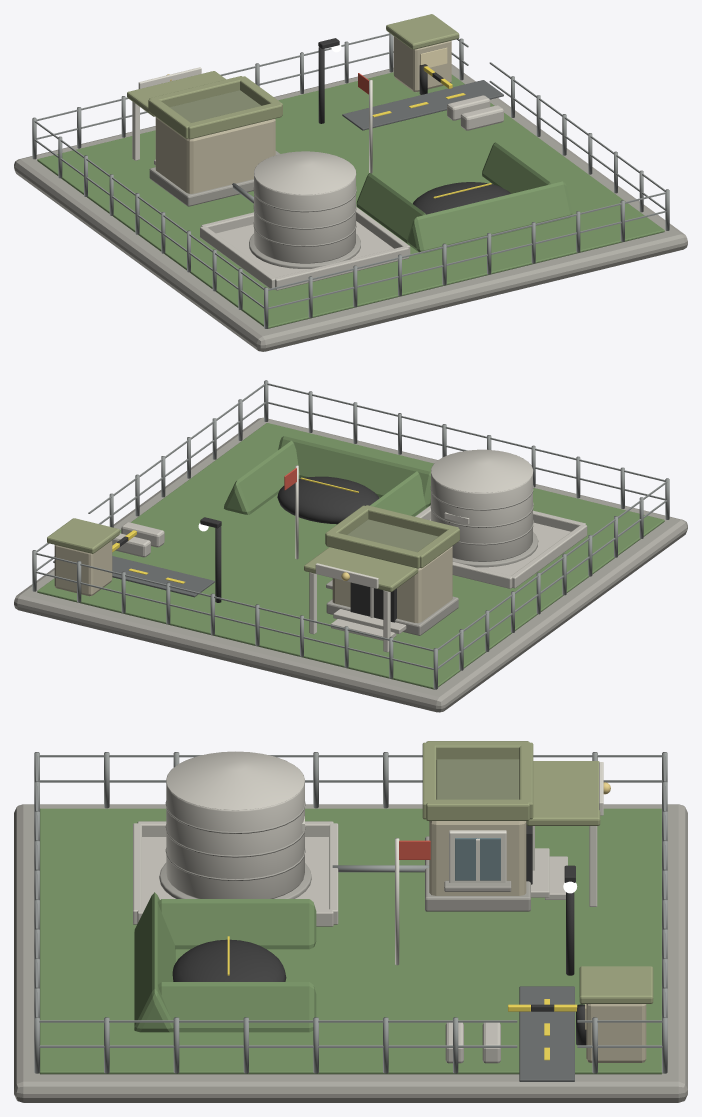
Rendered from fueldepot_4.glb.
3 renders of one model, top to bottom at view 1: azimuth 30°, elevation 25°; view 2: azimuth 150°, elevation 25°; view 3: azimuth 270°, elevation 25°, orthographic. The views are drawn at different scales.
Visible parts, largest first — view 1: Cube.001, Cube, Cylinder.002, Cube.021, prism, Cone, Cube.002, prism.001, prism.002, Cube.006, Sphere, Cube.014 (+22 smaller); view 2: Cube.001, Cube, Cylinder.002, prism, Cone, Sphere, Cube.021, prism.002, Cube.006, Cube.034, Cube.002, Cube.007 (+25 smaller); view 3: Cube.001, Cube, Cylinder.002, prism.002, prism.001, Cone, Cube.002, prism, Cube.034, Sphere, Cube.021, Cube.027 (+27 smaller).
Boxes of the visible parts, bbox=[...] form: Cube.001: bbox=[37, 72, 664, 328]; Cube: bbox=[14, 64, 687, 351]; Cylinder.002: bbox=[254, 176, 355, 263]; Cube.021: bbox=[155, 117, 275, 193]; prism: bbox=[407, 181, 572, 253]; Cone: bbox=[254, 151, 356, 194]; Cube.002: bbox=[342, 80, 503, 130]; prism.001: bbox=[356, 173, 425, 243]; prism.002: bbox=[482, 142, 551, 193]; Cube.006: bbox=[393, 36, 451, 92]; Sphere: bbox=[413, 182, 510, 214]; Cube.014: bbox=[216, 221, 393, 277]; Cube.001: bbox=[37, 423, 664, 689]; Cube: bbox=[14, 417, 687, 712]; Cylinder.002: bbox=[431, 474, 532, 561]; prism: bbox=[278, 436, 430, 507]; Cone: bbox=[431, 449, 533, 492]; Sphere: bbox=[277, 476, 379, 524]; Cube.021: bbox=[332, 546, 452, 623]; prism.002: bbox=[224, 440, 299, 514]; Cube.006: bbox=[54, 540, 112, 596]; Cube.034: bbox=[304, 547, 418, 591]; Cube.002: bbox=[53, 556, 214, 597]; Cube.007: bbox=[47, 518, 119, 553]; Cube.001: bbox=[39, 808, 662, 1074]; Cube: bbox=[14, 804, 687, 1102]; Cylinder.002: bbox=[166, 783, 304, 898]; prism.002: bbox=[158, 982, 316, 1032]; prism.001: bbox=[157, 899, 316, 949]; Cone: bbox=[166, 751, 304, 810]; Cube.002: bbox=[519, 986, 574, 1081]; prism: bbox=[134, 892, 175, 1032]; Cube.034: bbox=[526, 761, 600, 825]; Sphere: bbox=[172, 939, 286, 981]; Cube.021: bbox=[429, 821, 526, 895]; Cube.027: bbox=[436, 759, 519, 799].
Bounding box in the file's own units: 2.92 × 0.715 × 2.92.
